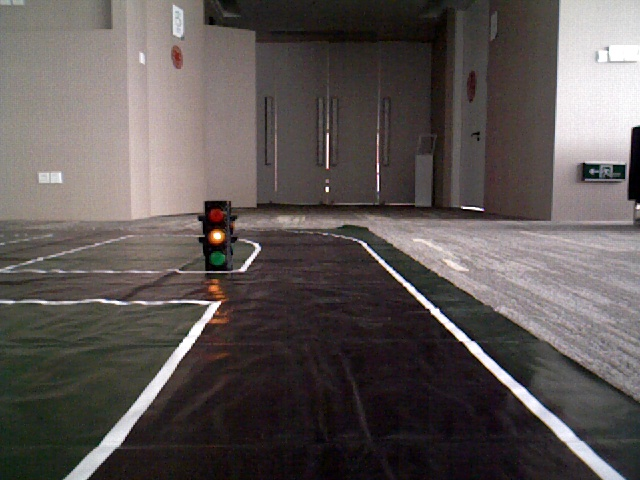yellow: (206, 204, 227, 265)
